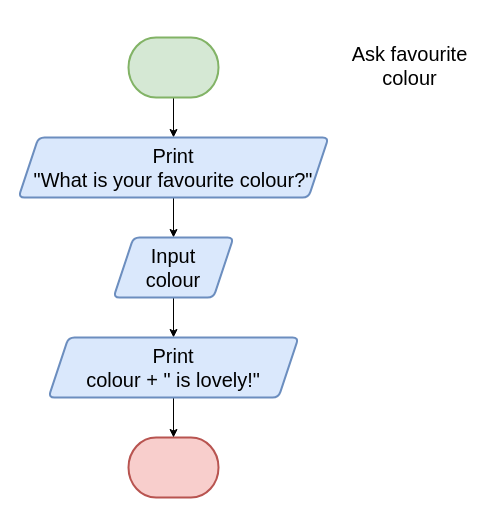
Image size: 488x515. Some labels were removed from this diagram. The centre of each missing label's shape, as x and y in pixels:
"End" belongs at point 173,467.
"Start" belongs at point 173,67.
